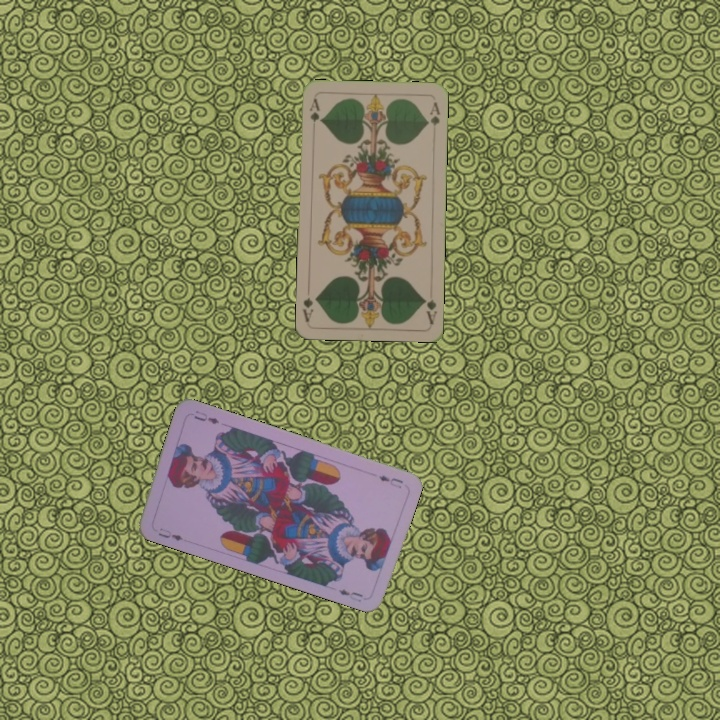EU: (375, 471, 406, 491), (154, 524, 185, 543)
GA: (420, 295, 439, 326), (305, 94, 322, 124)
